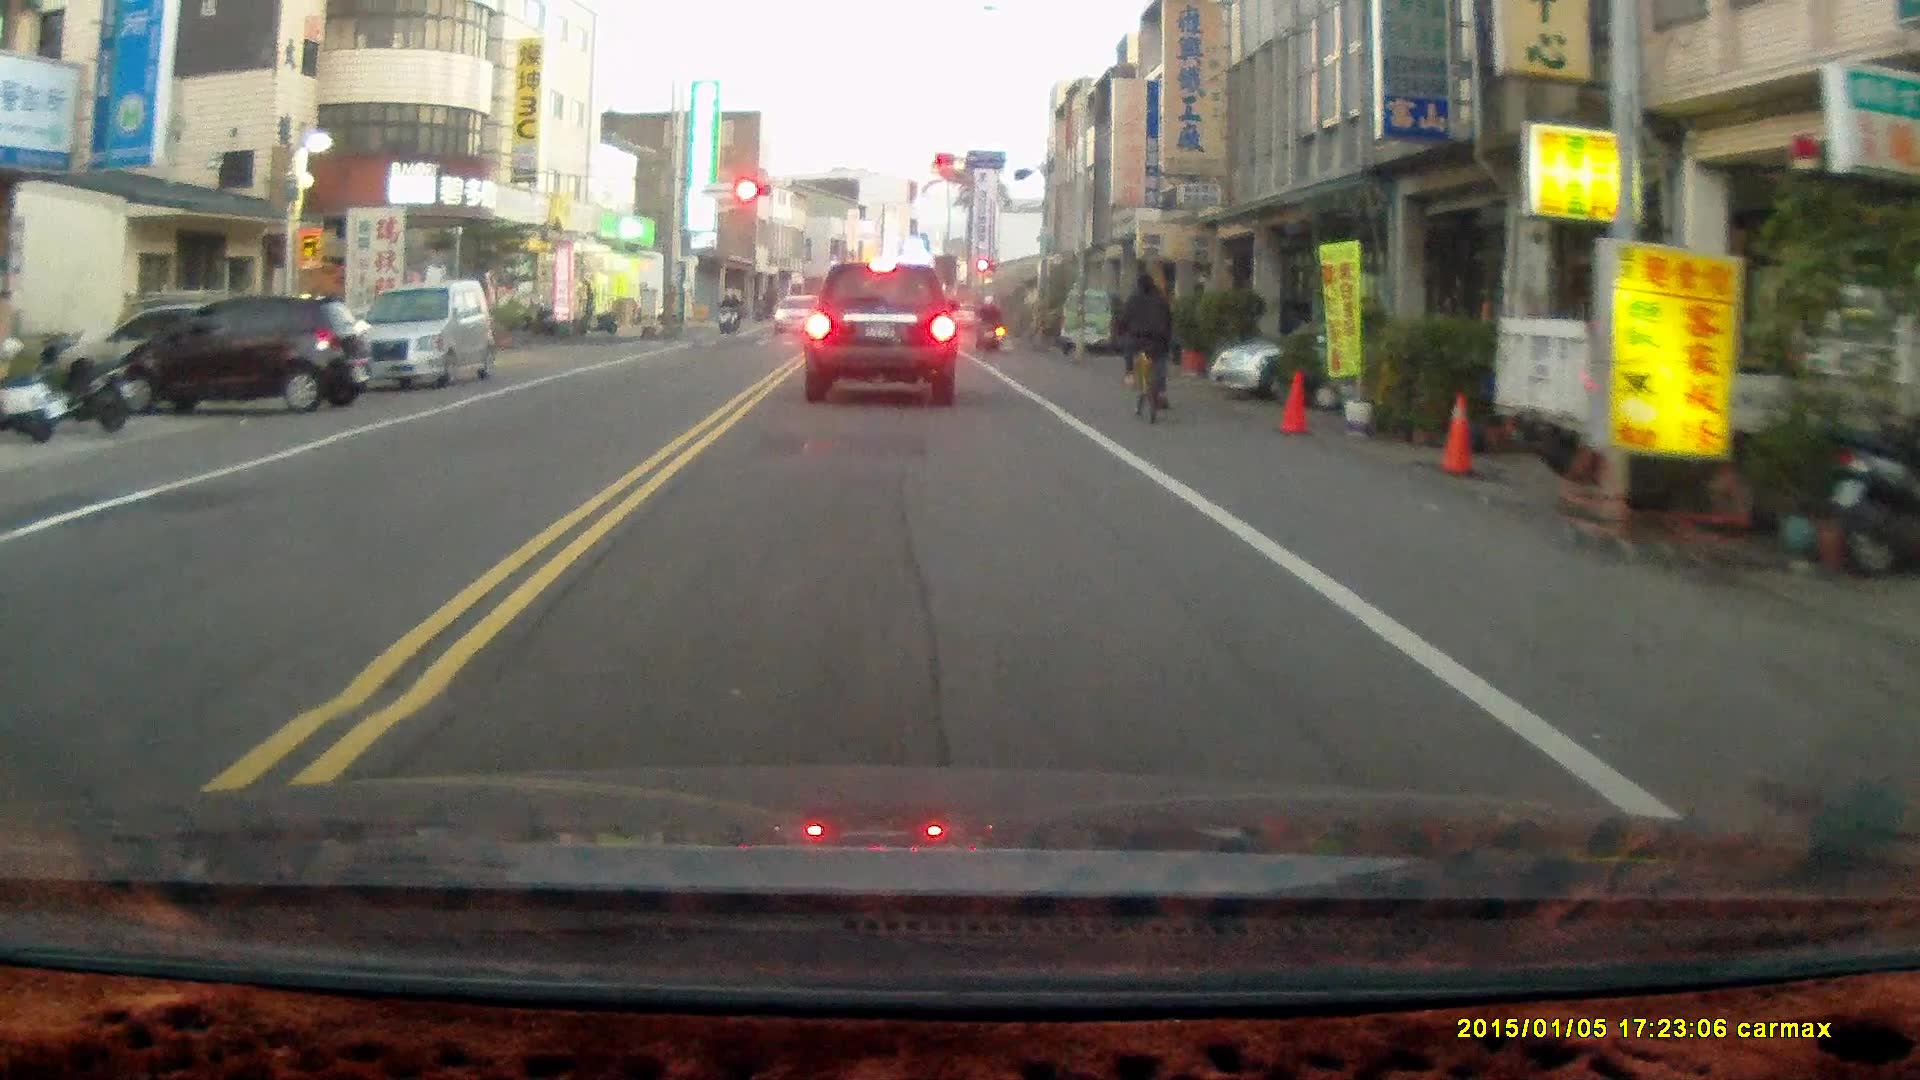rider: (1113, 272, 1173, 427), (972, 293, 1003, 356), (713, 290, 736, 335)
vehicle: (111, 289, 375, 416), (800, 260, 962, 408), (1209, 313, 1460, 401), (343, 280, 493, 393)
